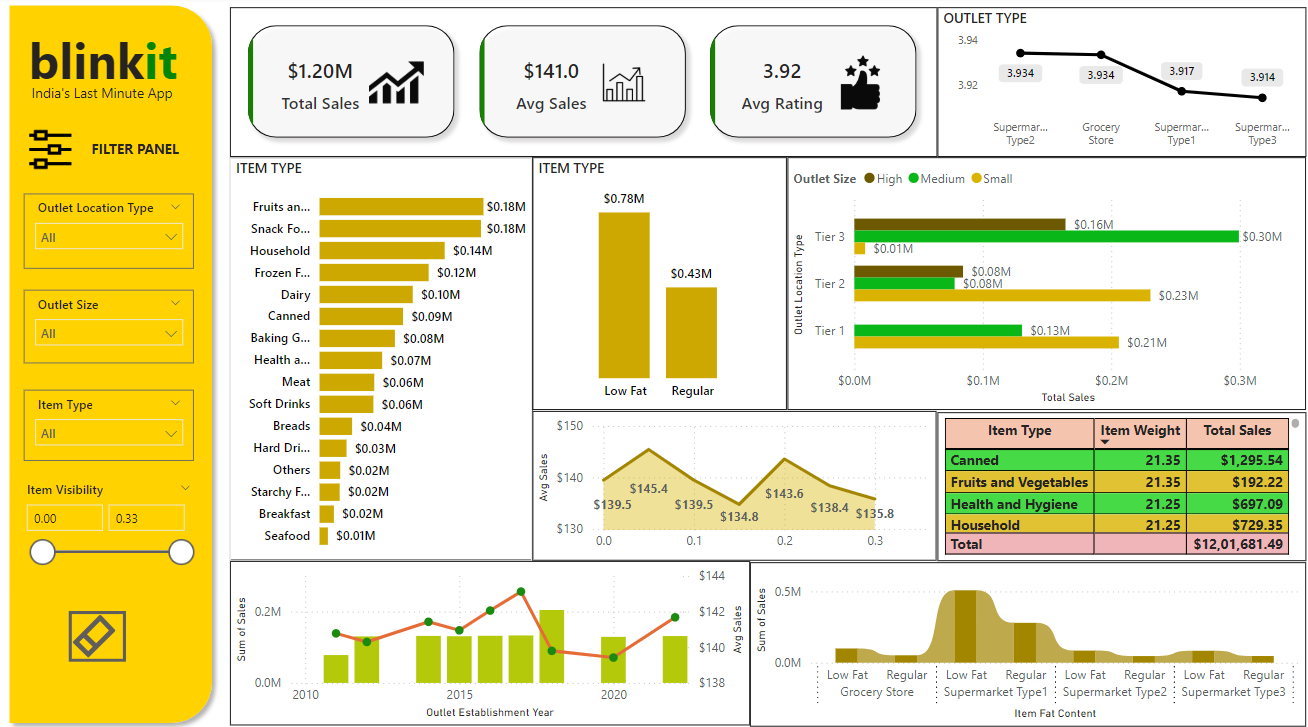

The dashboard page shown, as its layout file describes it:
{"tool":"powerbi","page":{"name":"Page 1","canvas":[1280,720],"ordinal":0},"visuals":[{"type":"shape","box":[0,0,216.4,720.2],"z":0},{"type":"barChart","title":"ITEM TYPE","fields":{"Y":["Table.Total Sales"],"Category":["BlinkIT Grocery Data.Item Type"]},"box":[225.2,158,296.1,394.3],"z":1000},{"type":"textbox","box":[23.6,24.9,166.7,78.4],"z":2000},{"type":"cardVisual","fields":{"Data":["Table.Total Sales","Table.Avg Sales","Table.Avg Rating"]},"box":[225.2,11.2,691.6,146.8],"z":3000},{"type":"columnChart","title":"ITEM TYPE","fields":{"Category":["BlinkIT Grocery Data.Item Fat Content"],"Y":["Table.Total Sales"]},"box":[521.2,158,248.8,247.5],"z":4000},{"type":"lineStackedColumnComboChart","fields":{"Category":["BlinkIT Grocery Data.Outlet Establishment Year"],"Y":["Sum(BlinkIT Grocery Data.Sales)"],"Y2":["Table.Avg Sales"]},"box":[225.2,552.3,508.8,160.5],"z":5000},{"type":"stackedAreaChart","fields":{"Category":["BlinkIT Grocery Data.Item Visibility (bins)"],"Y":["Table.Avg Sales"]},"box":[521.2,405.5,395.6,146.8],"z":6000},{"type":"ribbonChart","fields":{"Category":["BlinkIT Grocery Data.Outlet Type","BlinkIT Grocery Data.Item Fat Content"],"Y":["Sum(BlinkIT Grocery Data.Sales)"]},"box":[733.9,553.6,543.6,160.5],"z":7000},{"type":"clusteredBarChart","fields":{"Y":["Table.Total Sales"],"Series":["BlinkIT Grocery Data.Outlet Size"],"Category":["BlinkIT Grocery Data.Outlet Location Type"]},"box":[770,158,507.5,247.5],"z":8000},{"type":"tableEx","fields":{"Values":["BlinkIT Grocery Data.Item Type","BlinkIT Grocery Data.Item Weight","Table.Total Sales"]},"box":[916.8,406.8,360.7,145.5],"z":9000},{"type":"slicer","fields":{"Values":["BlinkIT Grocery Data.Outlet Location Type"]},"box":[23.6,192.8,166.7,73.4],"z":10000},{"type":"slicer","fields":{"Values":["BlinkIT Grocery Data.Outlet Size"]},"box":[23.6,287.4,166.7,72.1],"z":11000},{"type":"slicer","fields":{"Values":["BlinkIT Grocery Data.Item Type"]},"box":[23.6,385.6,166.7,69.7],"z":12000},{"type":"image","box":[19.9,114.4,59.7,69.7],"z":13000},{"type":"textbox","box":[84.6,135.6,114.4,36.1],"z":14000},{"type":"textbox","box":[26.1,80.9,166.7,33.6],"z":15000},{"type":"actionButton","box":[67.2,602.1,56,49.8],"z":16000},{"type":"lineChart","title":"OUTLET TYPE","fields":{"Category":["BlinkIT Grocery Data.Outlet Type"],"Y":["Table.Avg Rating"]},"box":[916.8,11.2,360.7,146.8],"z":17000},{"type":"slicer","fields":{"Values":["BlinkIT Grocery Data.Item Visibility"]},"box":[13.7,469,185.3,114.4],"z":18000}]}

Visuals, with their boxes in screenshot pixels (x1, y1, x2, y2), scaled from the page's 1280x720 canvas onto the 1308x727 screenshot:
shape: region(0, 0, 221, 726)
"ITEM TYPE" barChart: region(230, 160, 533, 558)
textbox: region(24, 25, 194, 104)
cardVisual - Table.Total Sales x Table.Avg Sales: region(230, 11, 937, 160)
"ITEM TYPE" columnChart: region(533, 160, 787, 409)
lineStackedColumnComboChart - BlinkIT Grocery Data.Outlet Establishment Year x Sum(BlinkIT Grocery Data.Sales): region(230, 558, 750, 720)
stackedAreaChart - BlinkIT Grocery Data.Item Visibility (bins) x Table.Avg Sales: region(533, 409, 937, 558)
ribbonChart - BlinkIT Grocery Data.Outlet Type x BlinkIT Grocery Data.Item Fat Content: region(750, 559, 1305, 721)
clusteredBarChart - Table.Total Sales x BlinkIT Grocery Data.Outlet Size: region(787, 160, 1305, 409)
tableEx - BlinkIT Grocery Data.Item Type x BlinkIT Grocery Data.Item Weight: region(937, 411, 1305, 558)
slicer - BlinkIT Grocery Data.Outlet Location Type: region(24, 195, 194, 269)
slicer - BlinkIT Grocery Data.Outlet Size: region(24, 290, 194, 363)
slicer - BlinkIT Grocery Data.Item Type: region(24, 389, 194, 460)
image: region(20, 116, 81, 186)
textbox: region(86, 137, 203, 173)
textbox: region(27, 82, 197, 116)
actionButton: region(69, 608, 126, 658)
"OUTLET TYPE" lineChart: region(937, 11, 1305, 160)
slicer - BlinkIT Grocery Data.Item Visibility: region(14, 474, 203, 589)
